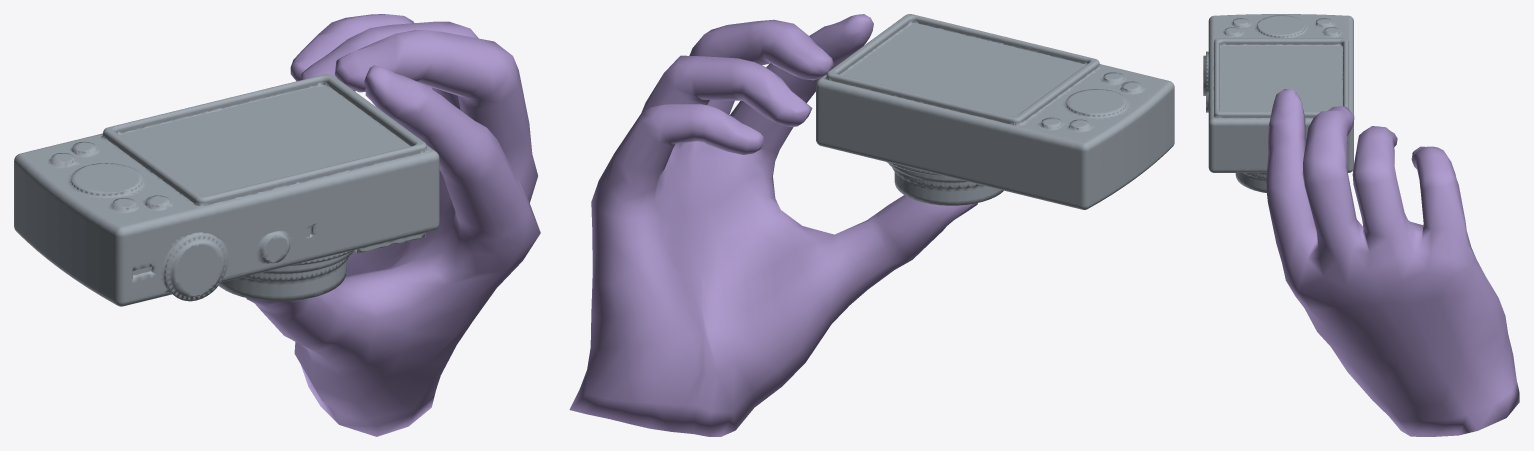
Rendered from ours_1.glb.
3 renders of one model, left to right at view 1: azimuth 30°, elevation 25°; view 2: azimuth 150°, elevation 25°; view 3: azimuth 270°, elevation 25°, orthographic. The views are drawn at different scales.
Bounding box in the file's own units: 0.1861 × 0.151 × 0.1418.
